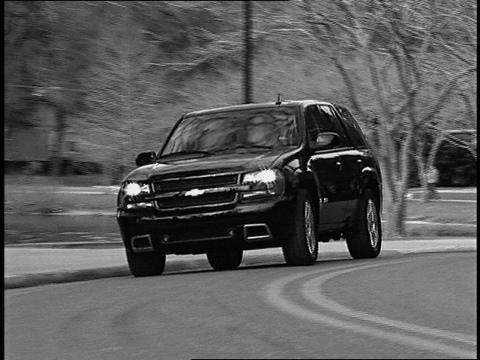car: (114, 93, 387, 280)
